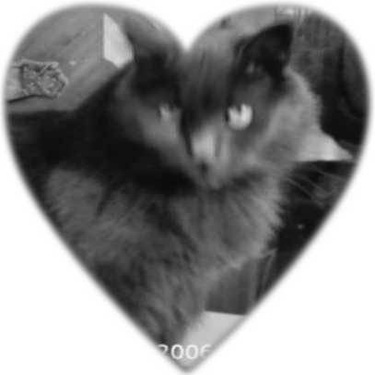cat: (34, 4, 328, 316)
